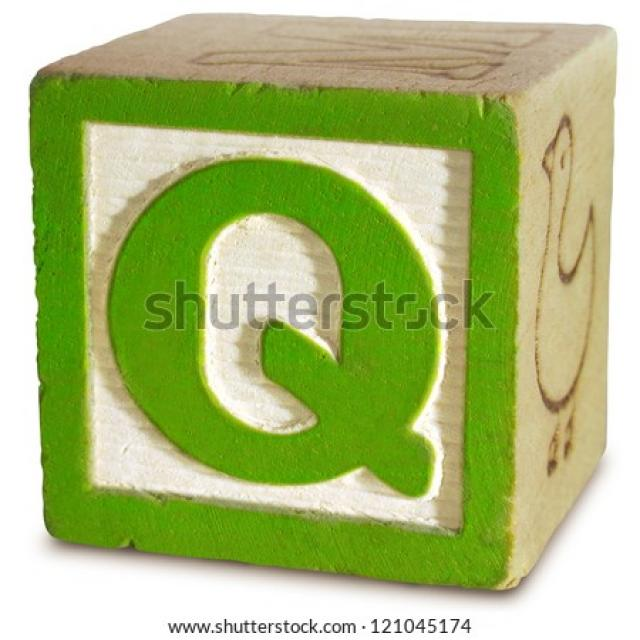Q: (98, 139, 456, 509)
